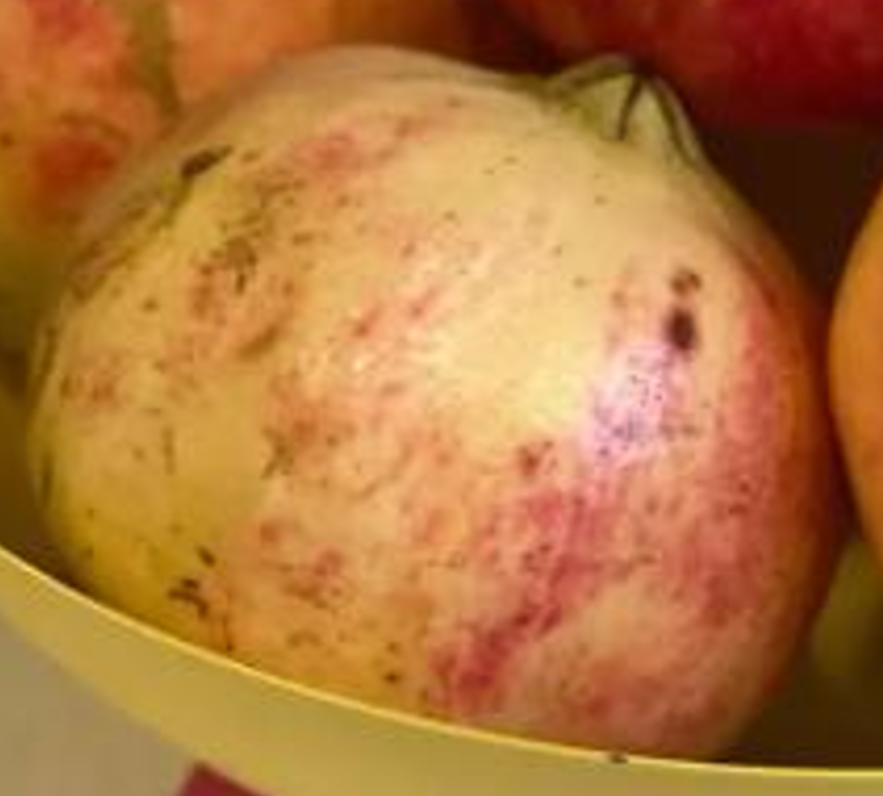pomegranate_B: (23, 38, 850, 764)
